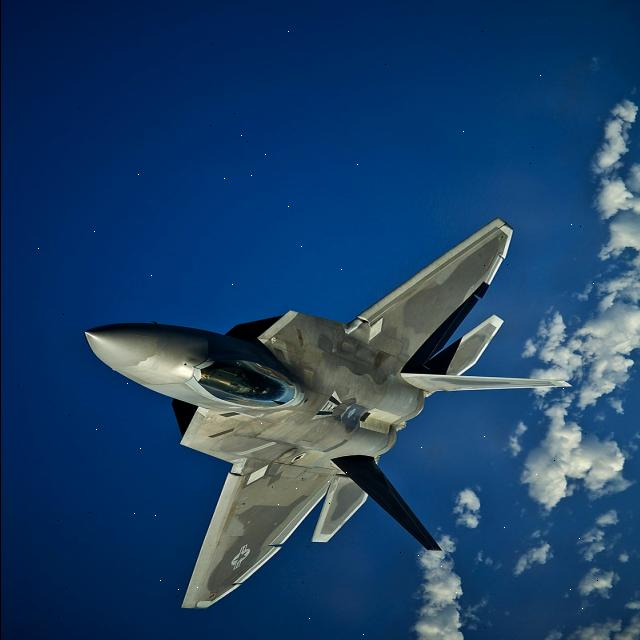F22: (35, 198, 617, 640)
